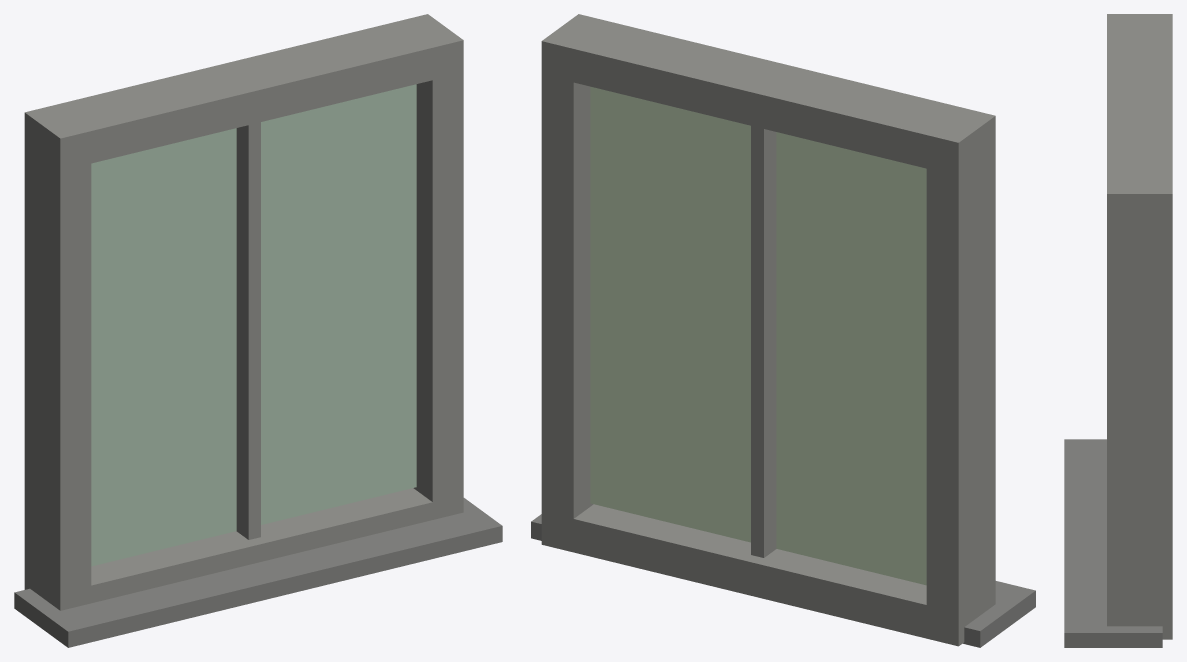
File: spirit_window.glb
3 views of the same model, side by side, from view 1: azimuth 30°, elevation 25°; view 2: azimuth 150°, elevation 25°; view 3: azimuth 270°, elevation 25° (orthographic). The views are drawn at different scales.
Visible parts, largest first — view 1: glass.001, glass, frame_side, frame_bar.001, frame_side.001, sill, frame_bar, mullion; view 2: glass.001, glass, frame_side, frame_bar.001, frame_side.001, frame_bar, mullion, sill; view 3: frame_side.001, frame_bar.001, sill, frame_bar.
Part boxes in pixels (x1=…): glass.001: x1=261, y1=84, x2=416, y2=524; glass: x1=91, y1=128, x2=236, y2=566; frame_side: x1=24, y1=129, x2=91, y2=609; frame_bar.001: x1=24, y1=14, x2=463, y2=170; frame_side.001: x1=413, y1=61, x2=463, y2=518; sill: x1=14, y1=498, x2=502, y2=647; frame_bar: x1=24, y1=488, x2=463, y2=610; mullion: x1=236, y1=122, x2=260, y2=539; glass.001: x1=590, y1=86, x2=750, y2=542; glass: x1=776, y1=132, x2=926, y2=585; frame_side: x1=926, y1=133, x2=995, y2=629; frame_bar.001: x1=541, y1=14, x2=995, y2=176; frame_side.001: x1=541, y1=58, x2=593, y2=534; frame_bar: x1=541, y1=504, x2=995, y2=646; mullion: x1=751, y1=126, x2=776, y2=557; sill: x1=531, y1=514, x2=1035, y2=647; frame_side.001: x1=1107, y1=209, x2=1172, y2=624; frame_bar.001: x1=1107, y1=14, x2=1172, y2=223; sill: x1=1064, y1=439, x2=1162, y2=647; frame_bar: x1=1107, y1=610, x2=1172, y2=639.
Size of what is drawn, in the model's own units: 1.4 by 1.5 by 0.33.
